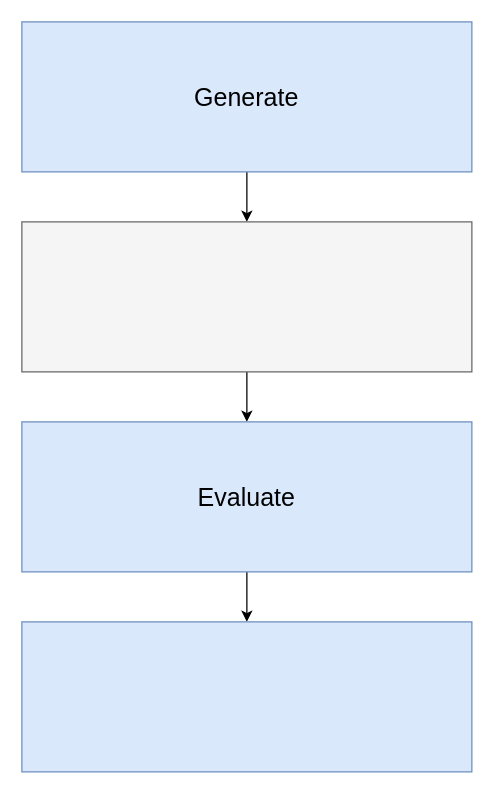
This 494x794 diagram has some shape labels left out. Here are the shapes that lost their labels. From the top down, the centre of each, then its label:
the point at 246,296: Annotate
the point at 246,696: Quantify
